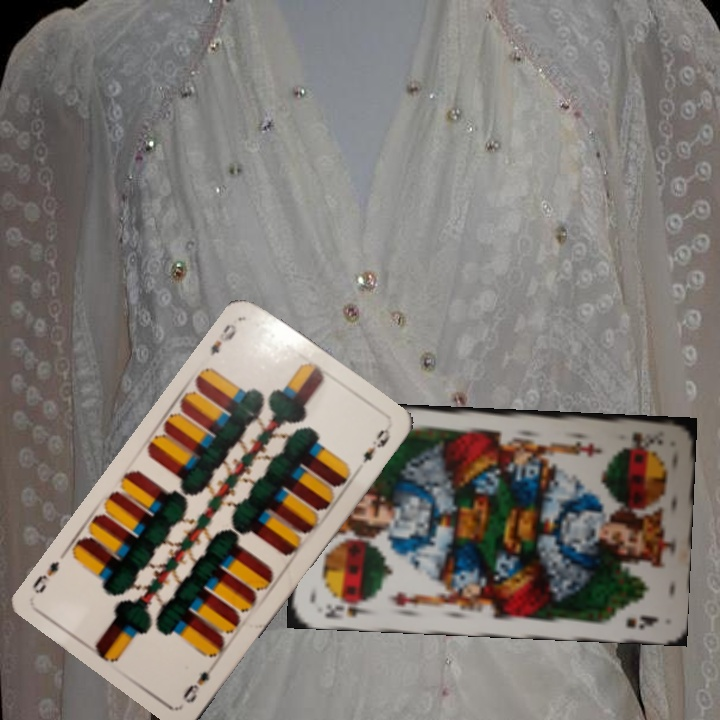E9: (179, 659, 220, 706), (206, 320, 240, 358)
SK: (320, 595, 372, 622), (628, 428, 665, 449)
